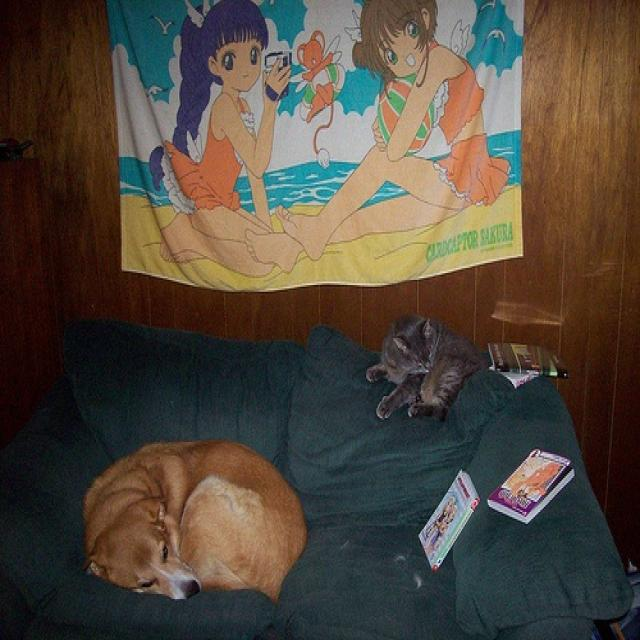cat: (369, 317, 484, 424)
dog: (83, 436, 309, 604)
sofa: (7, 320, 631, 639)
